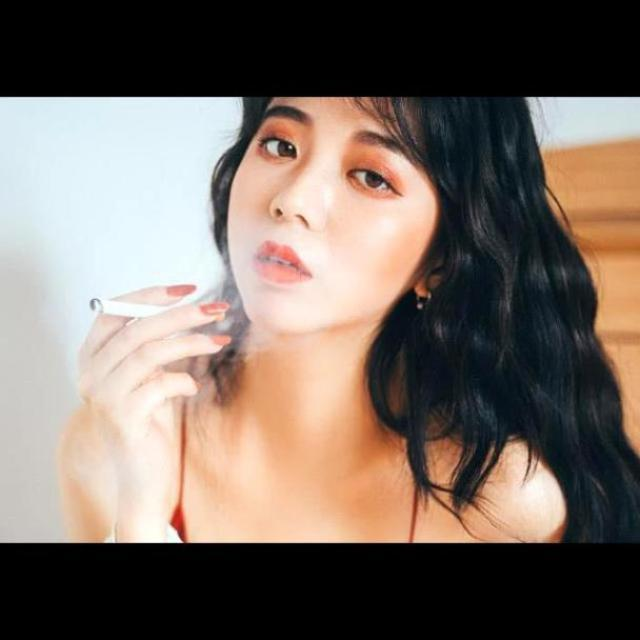rokok: (83, 294, 179, 318)
